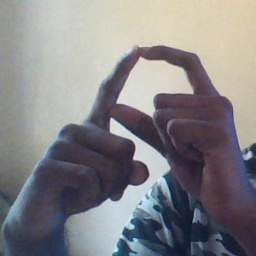D: (55, 37, 230, 166)
